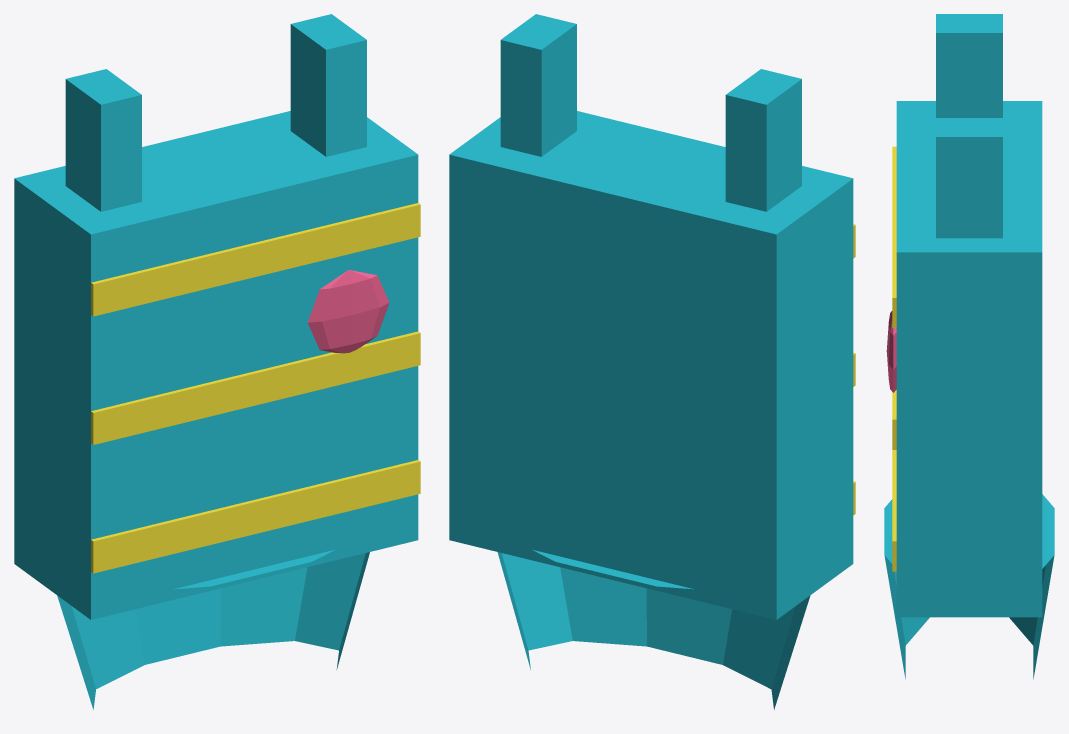
File: baddrakt.glb
3 views of the same model, side by side, from view 1: azimuth 30°, elevation 25°; view 2: azimuth 150°, elevation 25°; view 3: azimuth 270°, elevation 25° (orthographic). The views are drawn at different scales.
Parts seen in each view (by area): view 1: baddrakt; view 2: baddrakt; view 3: baddrakt.
Boxes of the visible parts, box(x1,y1,x2,y2) form: baddrakt: box(14, 14, 420, 709); baddrakt: box(449, 14, 855, 709); baddrakt: box(884, 14, 1054, 679).
Size of the model in its own units: 0.32 by 0.58 by 0.1522.
